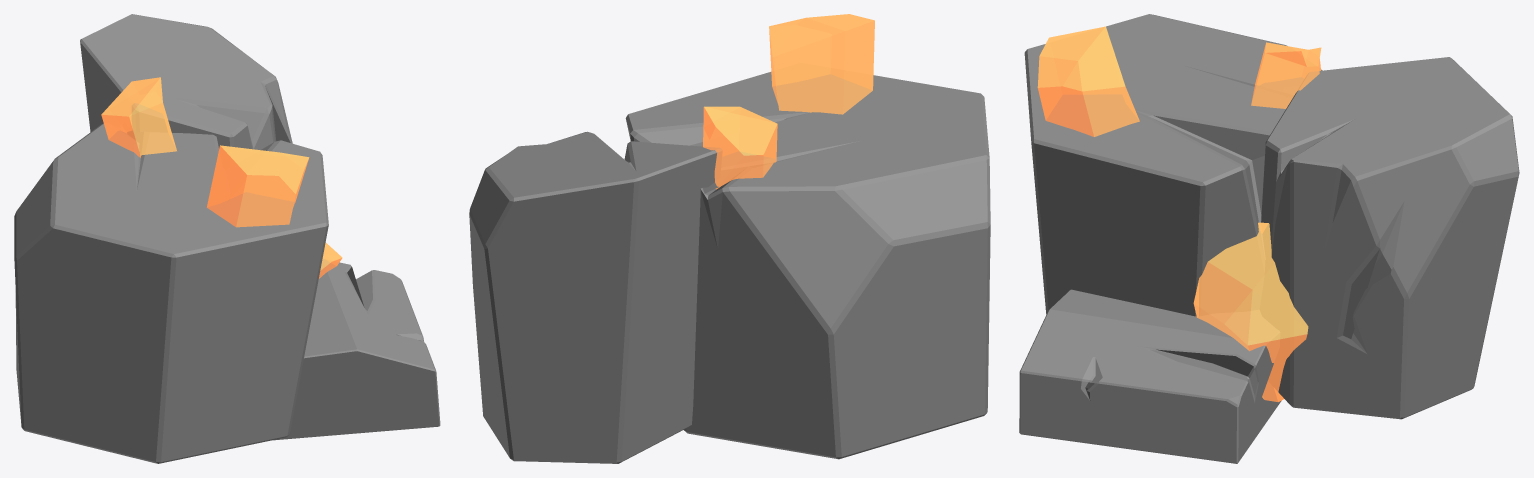
File: Orange ore 3.fbx
3 views of the same model, side by side, from view 1: azimuth 30°, elevation 25°; view 2: azimuth 150°, elevation 25°; view 3: azimuth 270°, elevation 25° (orthographic). The views are drawn at different scales.
Parts seen in each view (by area): view 1: Rock .008, Rock .011, Rock.002, Cylinder.025, Cylinder.026; view 2: Rock .008, Rock.002, Cylinder.025, Cylinder.026; view 3: Rock.002, Rock .008, Rock .011, Cylinder.043, Cylinder.025, Cylinder.026.
Part boxes in pixels (bbox=[...]): Rock .008: bbox=[14, 123, 328, 463]; Rock .011: bbox=[273, 259, 440, 440]; Rock.002: bbox=[80, 14, 292, 149]; Cylinder.025: bbox=[207, 145, 309, 227]; Cylinder.026: bbox=[101, 77, 176, 157]; Rock .008: bbox=[625, 72, 990, 459]; Rock.002: bbox=[469, 131, 721, 463]; Cylinder.025: bbox=[769, 14, 874, 114]; Cylinder.026: bbox=[703, 106, 777, 189]; Rock.002: bbox=[1260, 57, 1519, 419]; Rock .008: bbox=[1024, 14, 1322, 316]; Rock .011: bbox=[1019, 289, 1281, 463]; Cylinder.043: bbox=[1193, 222, 1308, 402]; Cylinder.025: bbox=[1037, 26, 1139, 136]; Cylinder.026: bbox=[1251, 42, 1321, 108].
Size of the model in its own units: 66.05 by 47.15 by 65.32.
